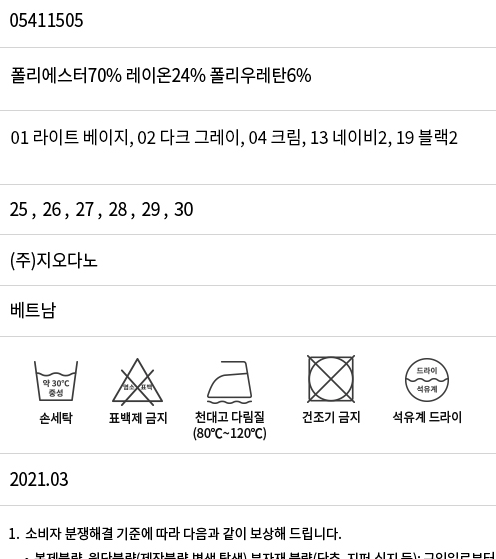KR_dry_clean_petroleum: (399, 352, 454, 407)
KR_hand_wash_30_neutral: (29, 355, 82, 407)
KR_no_chlorine_bleach: (107, 355, 168, 409)
KR_no_tumble_dry: (300, 350, 364, 406)
